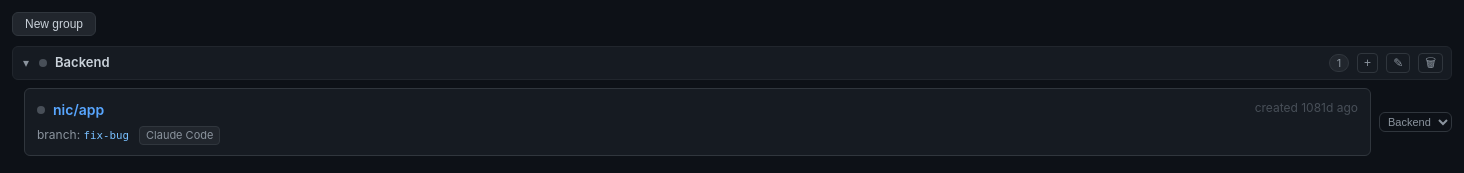
GroupTree › collapses a group on disclosure click and persists the state
The image size is (1464, 173).
Expected: the text "fix-bug" is shown, [84, 129, 129, 142]
Click the button named "Collapse Backend" at {"x": 26, "y": 63}, box [21, 57, 31, 69]
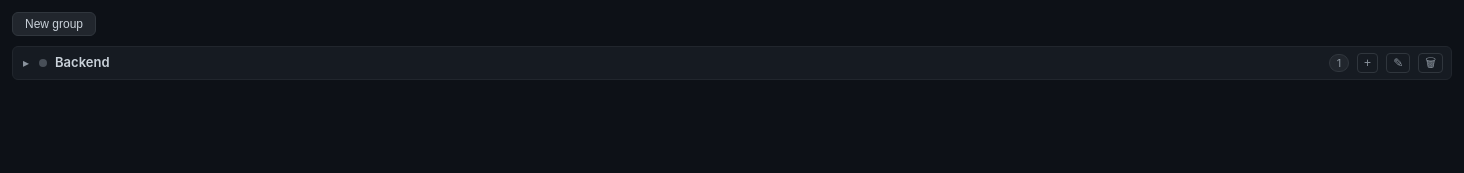
Now the link "fix-bug" is gone
Click the button named "Expand Backend" at {"x": 26, "y": 63}, box [21, 57, 31, 69]
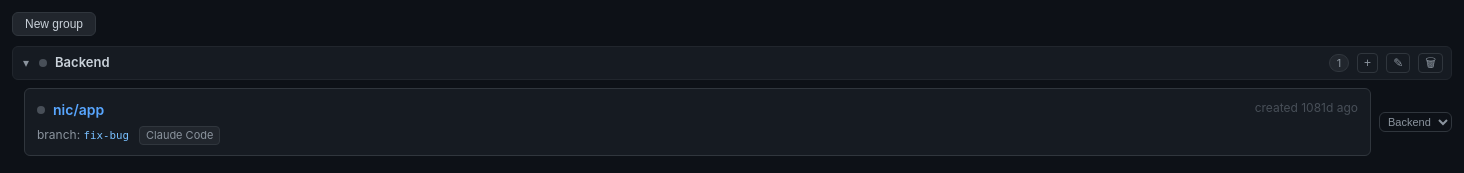
Now the text "fix-bug" is shown, box [84, 129, 129, 142]
